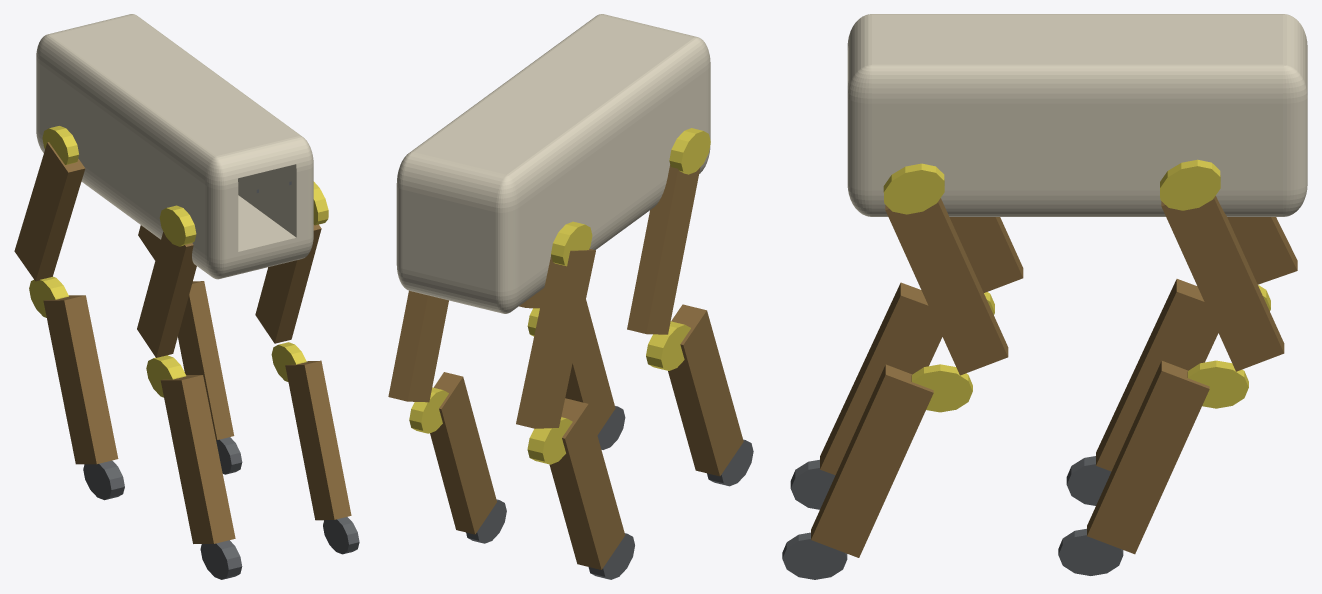
Rendered from Initial  of a Simple Robotic Dog.glb.
The picture shows the model from 3 angles, left to right: view 1: azimuth 30°, elevation 25°; view 2: azimuth 150°, elevation 25°; view 3: azimuth 270°, elevation 25°; orthographic projection. The views are drawn at different scales.
Visible parts, largest first — view 1: Mesh_Mesh_head_geo.001_lambert2SG.001; view 2: Mesh_Mesh_head_geo.001_lambert2SG.001; view 3: Mesh_Mesh_head_geo.001_lambert2SG.001.
Boxes of the visible parts, x1,y1,x2,y2 form: Mesh_Mesh_head_geo.001_lambert2SG.001: [14, 14, 359, 579]; Mesh_Mesh_head_geo.001_lambert2SG.001: [388, 14, 753, 579]; Mesh_Mesh_head_geo.001_lambert2SG.001: [782, 14, 1307, 579].
Bounding box in the file's own units: 0.0254 × 0.066 × 0.0628.
